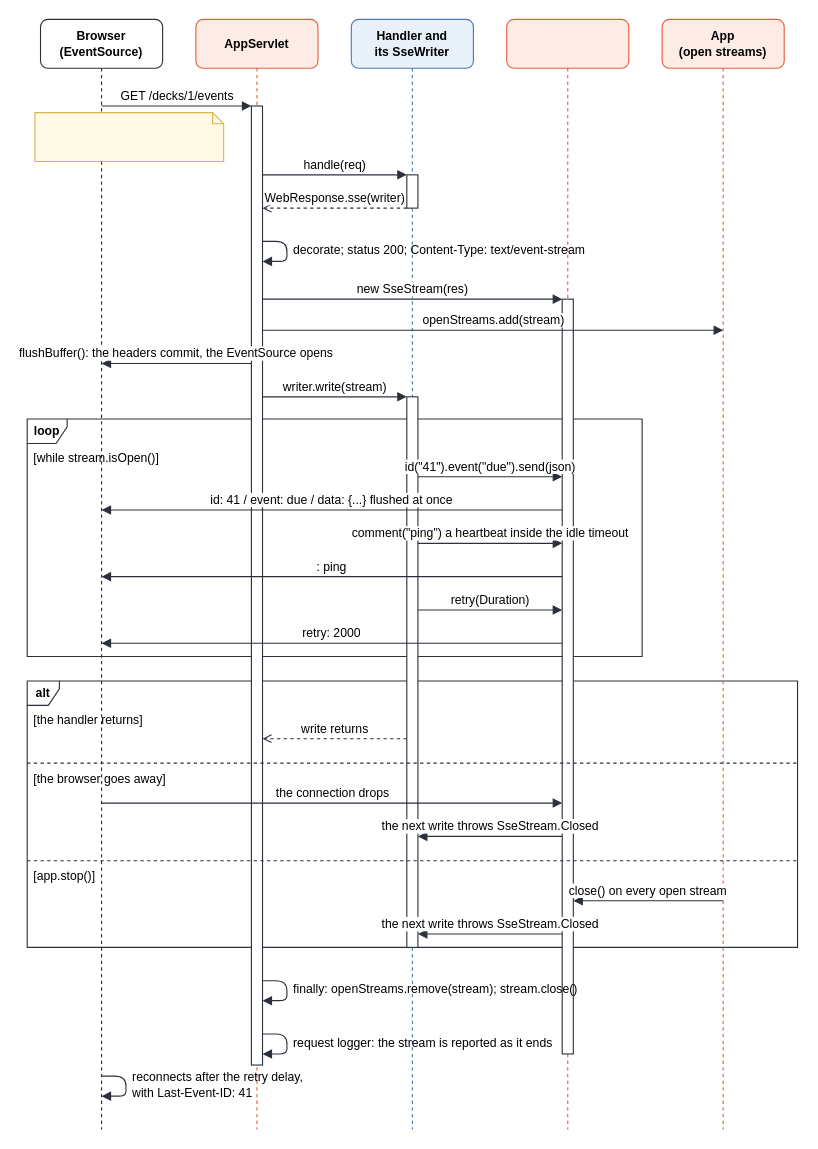
The diagram is 818 pixels wide and 1149 high, and some of its shapes have lost their labels. The centre of each missing label's shape, as x and y in pixels:
"an ordinary route: the router, before filters, and the request logger all apply" goes at (x=129, y=137).
"SseStream" goes at (x=567, y=573).
